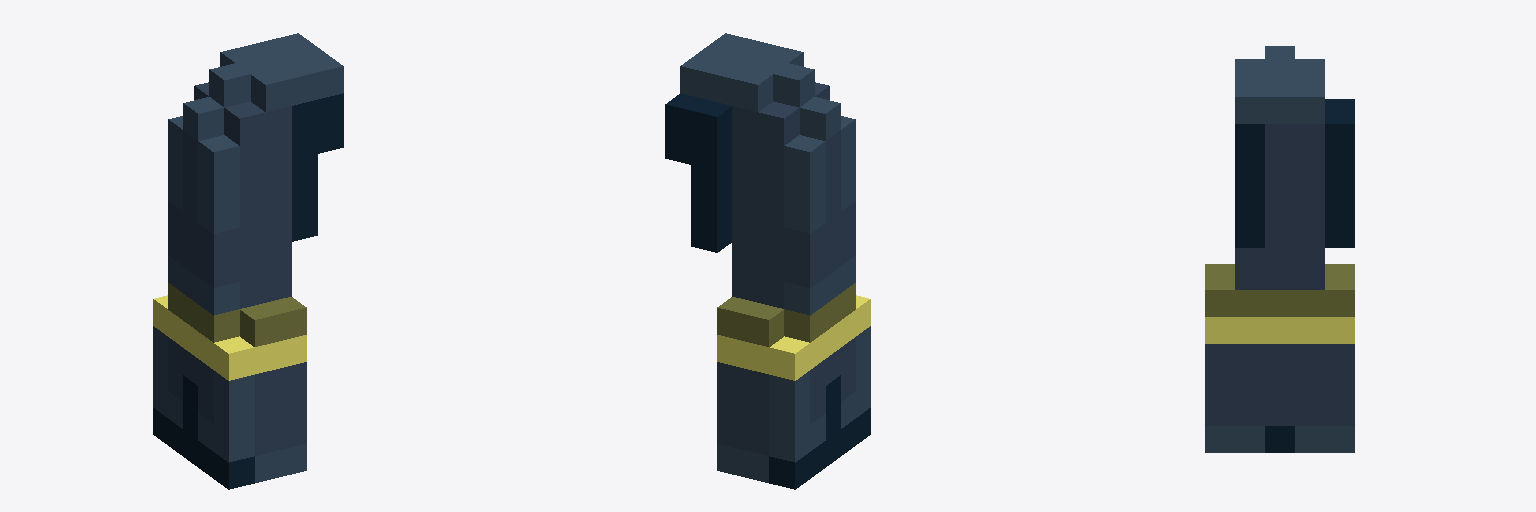
3 views of the same model, side by side, from view 1: azimuth 30°, elevation 25°; view 2: azimuth 150°, elevation 25°; view 3: azimuth 270°, elevation 25° (orthographic).
Visible parts, largest first — view 1: armL; view 2: armL; view 3: armL.
Part boxes in pixels (x1,y1,x2,y2): armL: (153, 33, 343, 489); armL: (665, 33, 870, 489); armL: (1205, 46, 1354, 452).
Size of the model in its own units: 0.5 by 1.4 by 0.5.
1 materials, 1 textured.